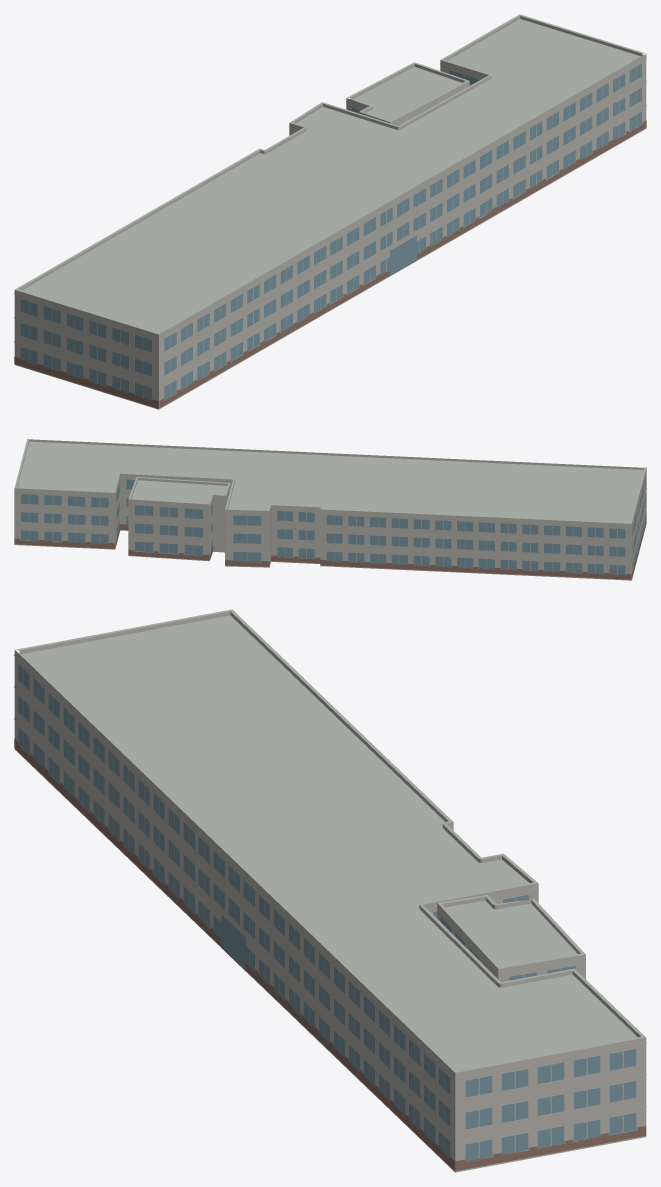
File: public-11f3e902-e40a-46a3-86cc-2d5723f6492a.glb
The picture shows the model from 3 angles, top to bottom: view 1: azimuth 30°, elevation 25°; view 2: azimuth 150°, elevation 25°; view 3: azimuth 270°, elevation 25°; orthographic projection. The views are drawn at different scales.
Visible parts, largest first — view 1: public-11f3e902-e40a-46a3-86cc-2d5723f6492a; view 2: public-11f3e902-e40a-46a3-86cc-2d5723f6492a; view 3: public-11f3e902-e40a-46a3-86cc-2d5723f6492a.
Boxes of the visible parts, x1,y1,x2,y2 form: public-11f3e902-e40a-46a3-86cc-2d5723f6492a: (14, 14, 646, 409); public-11f3e902-e40a-46a3-86cc-2d5723f6492a: (14, 438, 646, 580); public-11f3e902-e40a-46a3-86cc-2d5723f6492a: (14, 609, 646, 1172).
Size of the model in its own units: 91.37 by 9.15 by 52.66.
